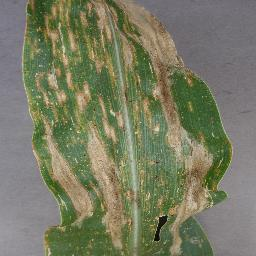Gray_Leaf_Spot: (92, 90, 234, 256), (18, 0, 181, 90), (24, 91, 91, 256), (181, 63, 206, 90)
